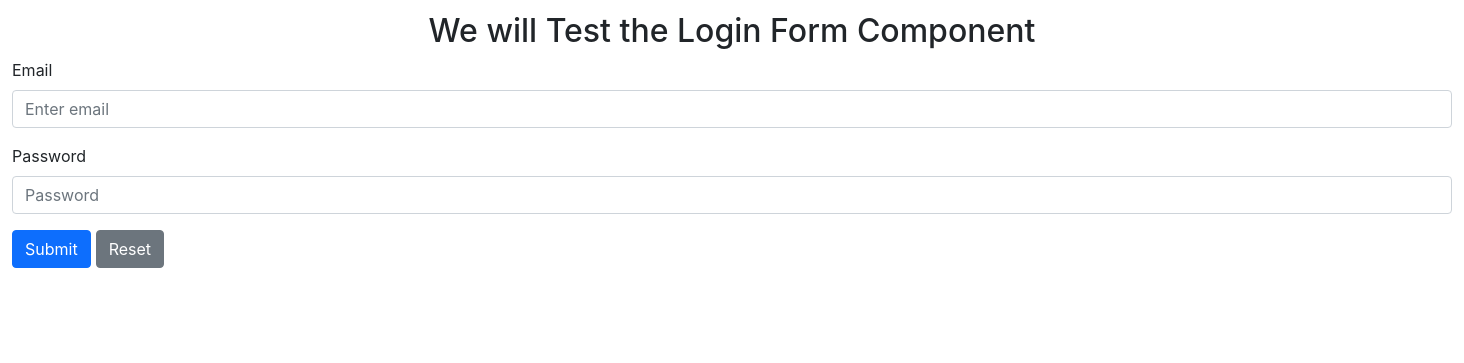
Test: kogin component test › should be able to submit the form
Step 1. Type "dipesh@gmail.com" into the field with placeholder "Enter email" → (732, 109), box [12, 90, 1452, 128]
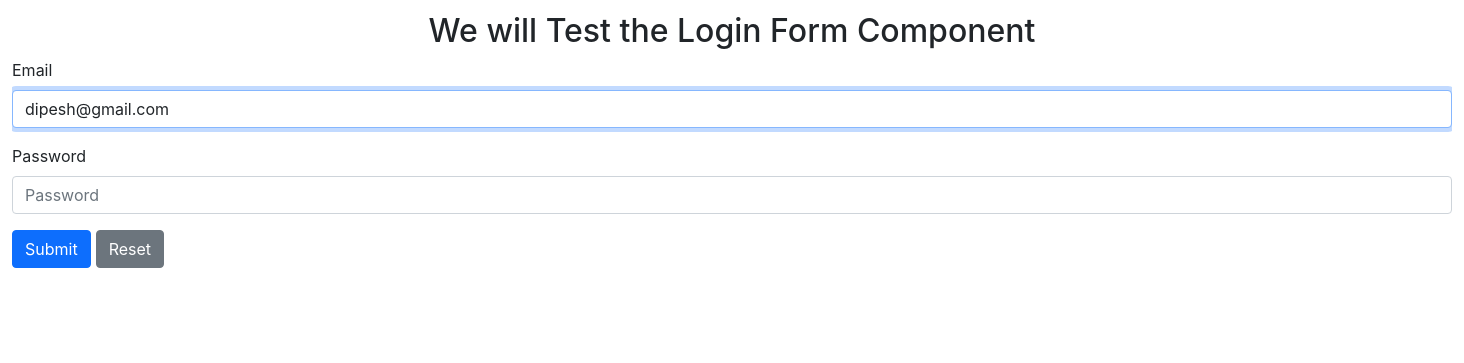
Step 2. Type "123456" into the password field with placeholder "Password" → (732, 195), box [12, 176, 1452, 214]
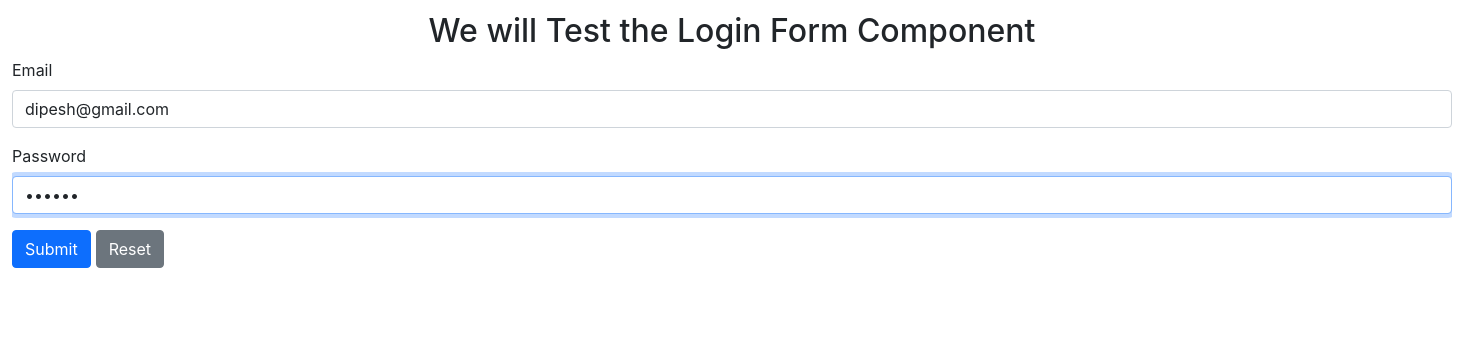
Step 3. Click the button "Submit" → (51, 249), box [12, 230, 91, 268]
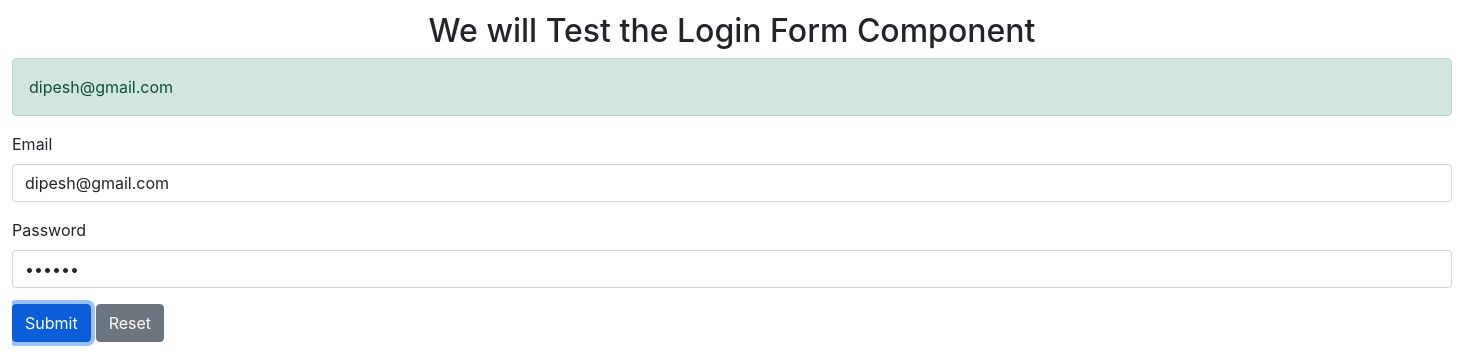
Result: the text "dipesh@gmail.com" is shown at [12, 58, 1452, 116]
